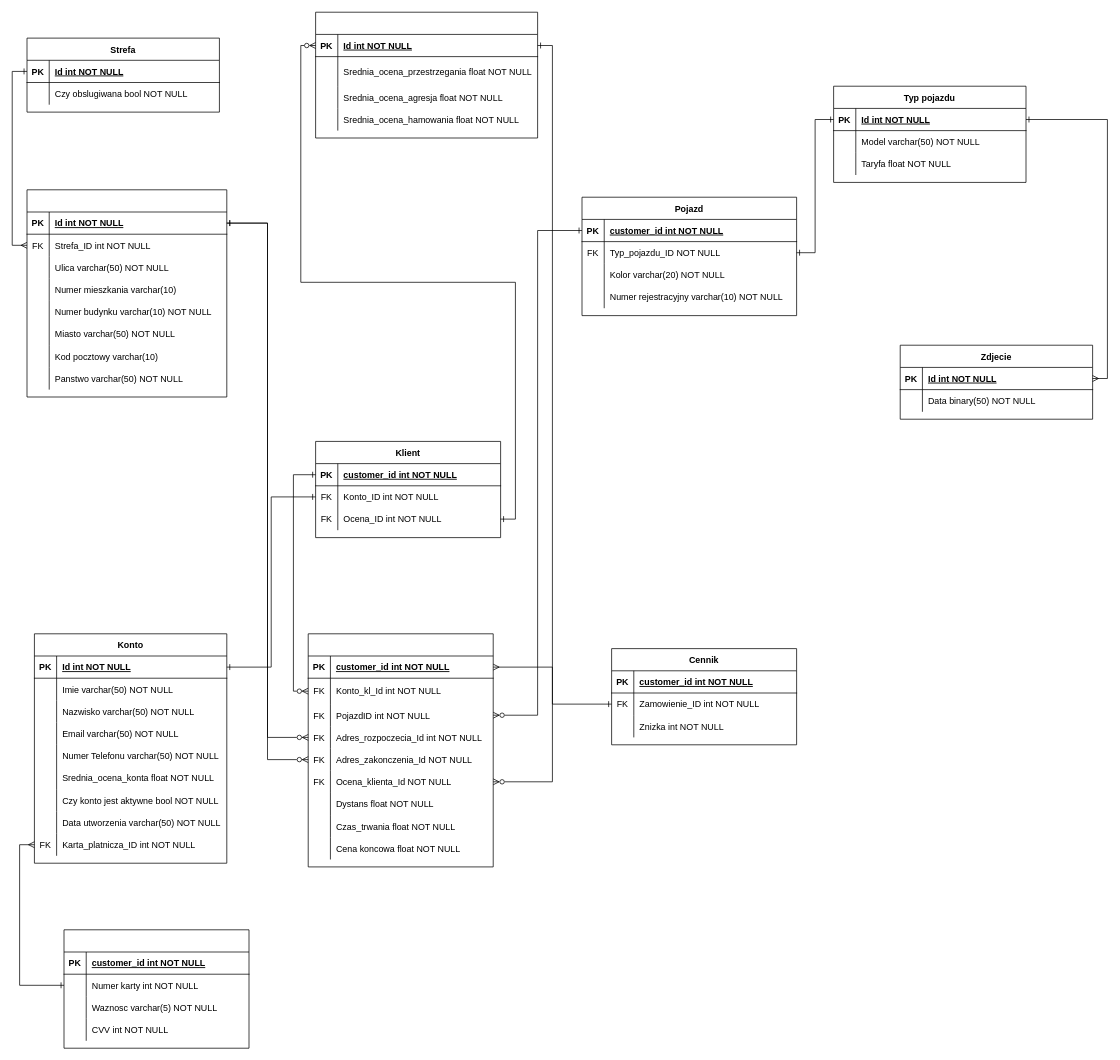
The diagram is 1120 pixels wide and 1060 high, and some of its shapes have lost their labels. Each missing label, with the box of its shape:
Adres: (26, 189, 227, 397)
Karta platnicza: (63, 929, 249, 1048)
Ocena klienta: (315, 11, 538, 138)
Przejazd: (307, 633, 493, 867)
